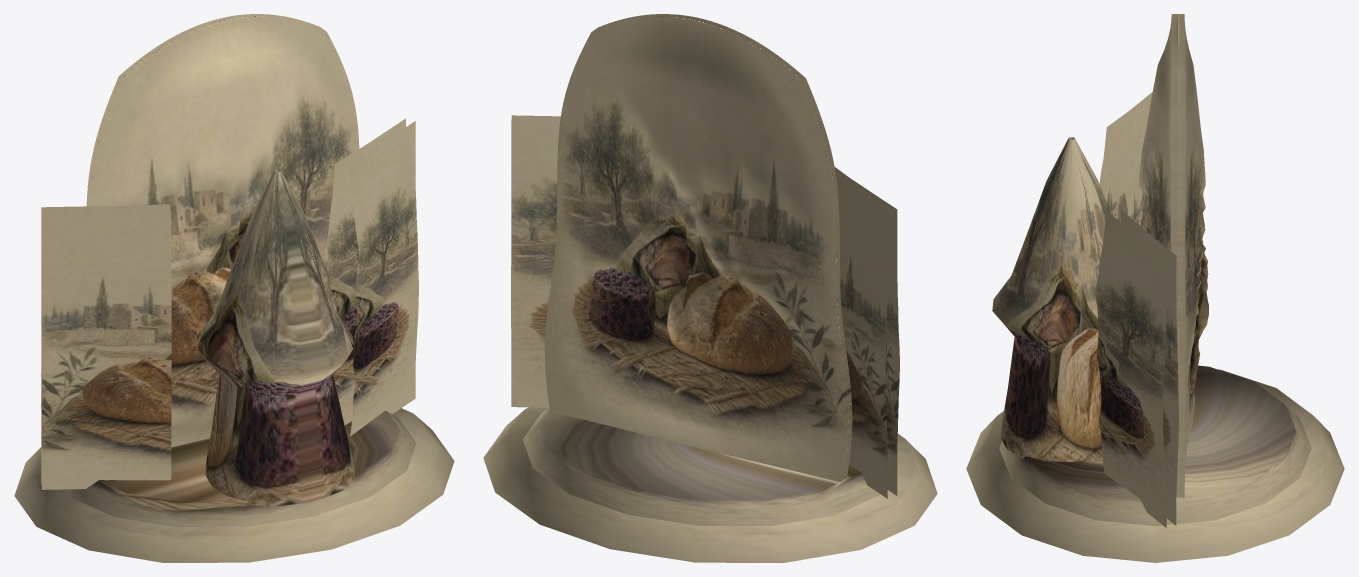
Rendered from our-eyes-are-on-you-8.glb.
The picture shows the model from 3 angles, left to right: view 1: azimuth 30°, elevation 25°; view 2: azimuth 150°, elevation 25°; view 3: azimuth 270°, elevation 25°; orthographic projection. The views are drawn at different scales.
Visible parts, largest first — view 1: PaintingSculptureMonument; view 2: PaintingSculptureMonument; view 3: PaintingSculptureMonument.
Part boxes in pixels (x1,y1,x2,y2): PaintingSculptureMonument: (14,14,454,562); PaintingSculptureMonument: (483,14,937,562); PaintingSculptureMonument: (966,14,1344,562).
Bounding box in the file's own units: 2.76 × 2.99 × 2.35.
1 material, 1 textured.
